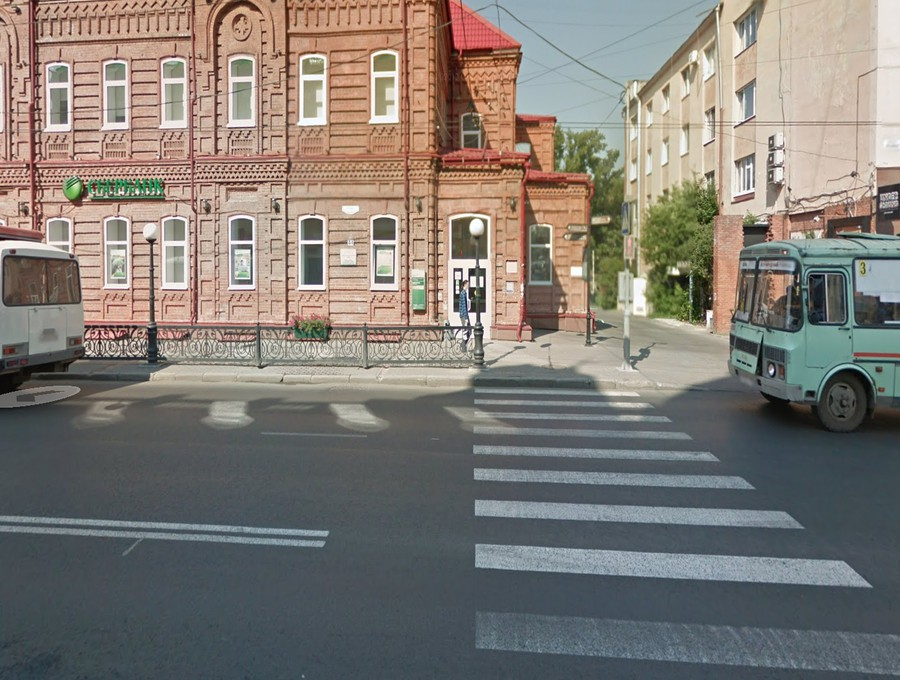Traffic Light-red: (622, 234, 637, 261)
